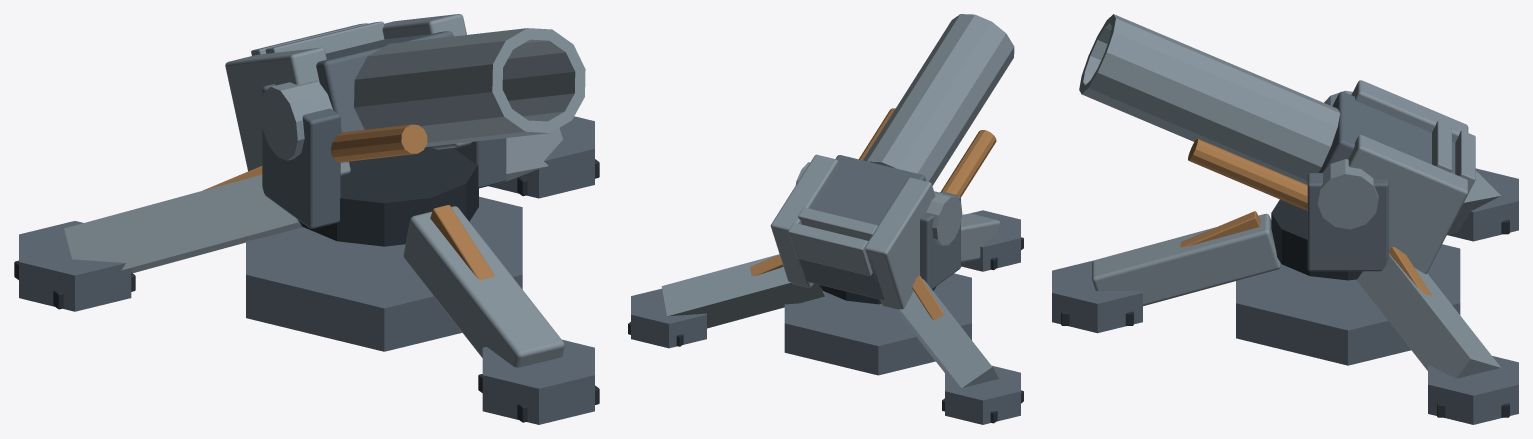
The model's file is howitzer_t1_d0.meshopt.glb.
3 views of the same model, side by side, from view 1: azimuth 30°, elevation 25°; view 2: azimuth 150°, elevation 25°; view 3: azimuth 270°, elevation 25° (orthographic). The views are drawn at different scales.
Parts seen in each view (by area): view 1: BASE_ARMOR_GEOMETRY, RECOIL_ARMOR_GEOMETRY, YAW_ARMOR_GEOMETRY; view 2: RECOIL_ARMOR_GEOMETRY, BASE_ARMOR_GEOMETRY, YAW_ARMOR_GEOMETRY; view 3: RECOIL_ARMOR_GEOMETRY, BASE_ARMOR_GEOMETRY, YAW_ARMOR_GEOMETRY.
Part boxes in pixels (<box>): BASE_ARMOR_GEOMETRY: <box>14,116,599,424</box>; RECOIL_ARMOR_GEOMETRY: <box>225,14,585,175</box>; YAW_ARMOR_GEOMETRY: <box>262,84,506,246</box>; RECOIL_ARMOR_GEOMETRY: <box>770,14,1014,309</box>; BASE_ARMOR_GEOMETRY: <box>628,210,1023,424</box>; YAW_ARMOR_GEOMETRY: <box>819,191,960,304</box>; RECOIL_ARMOR_GEOMETRY: <box>1079,14,1475,274</box>; BASE_ARMOR_GEOMETRY: <box>1052,168,1518,424</box>; YAW_ARMOR_GEOMETRY: <box>1271,173,1388,280</box>.
Size of the model in its own units: 3.33 by 2.03 by 2.89.
